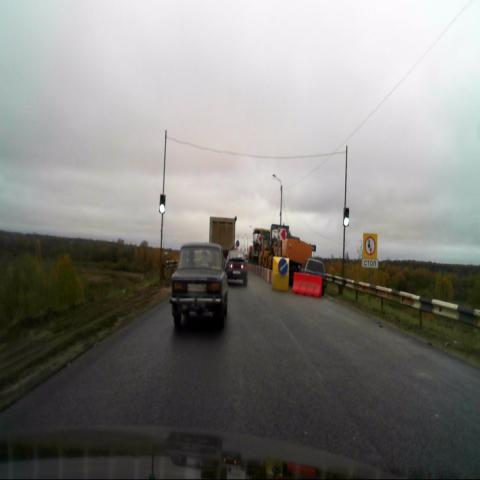2_6: (363, 233, 377, 258)
